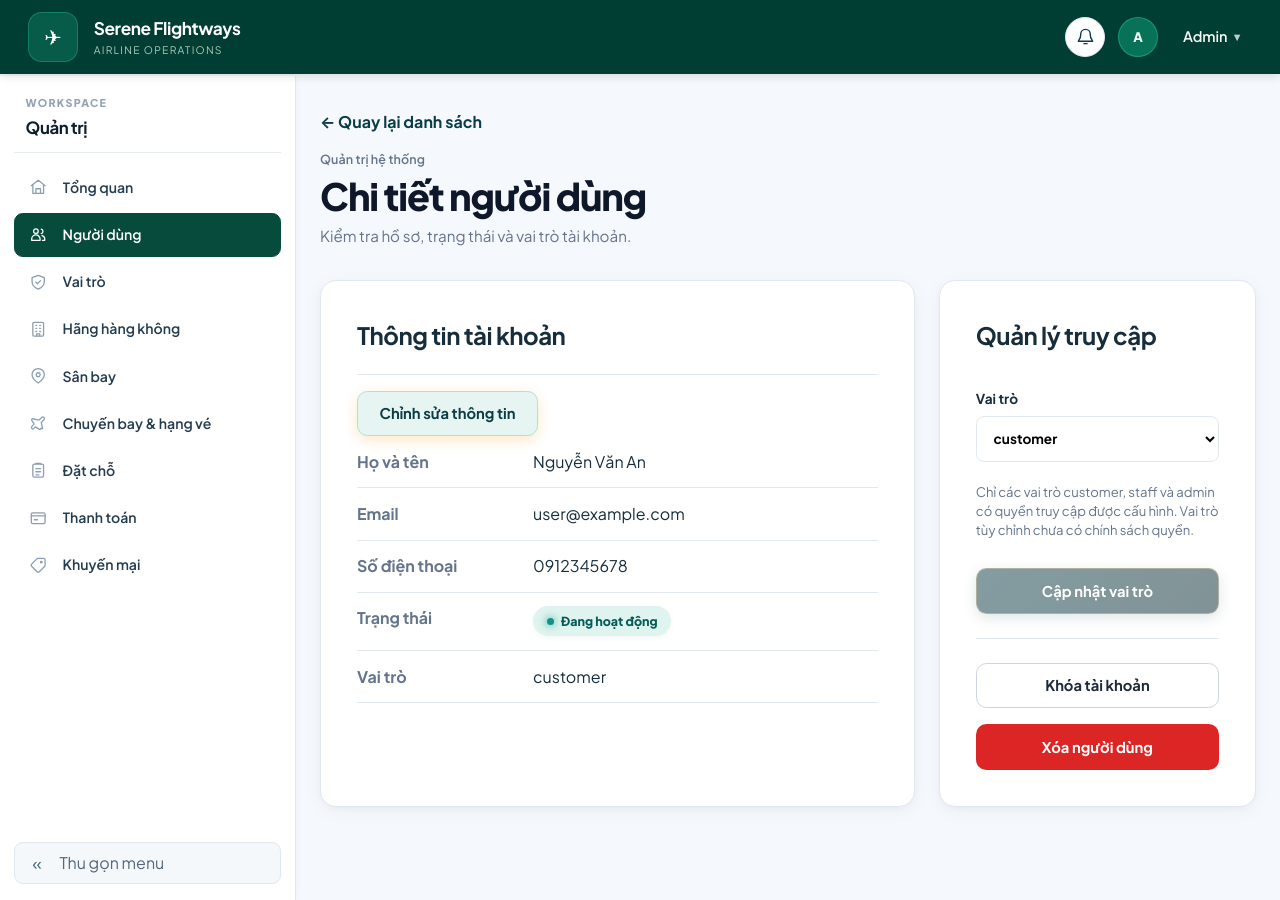
admin user detail › keeps old data after an API conflict and explains the error in Vietnamese
Expected: the text "user@example.com" is shown, [533,503,685,524]
Click the button "Khóa tài khoản" at (1097, 686), box [976,663,1219,708]
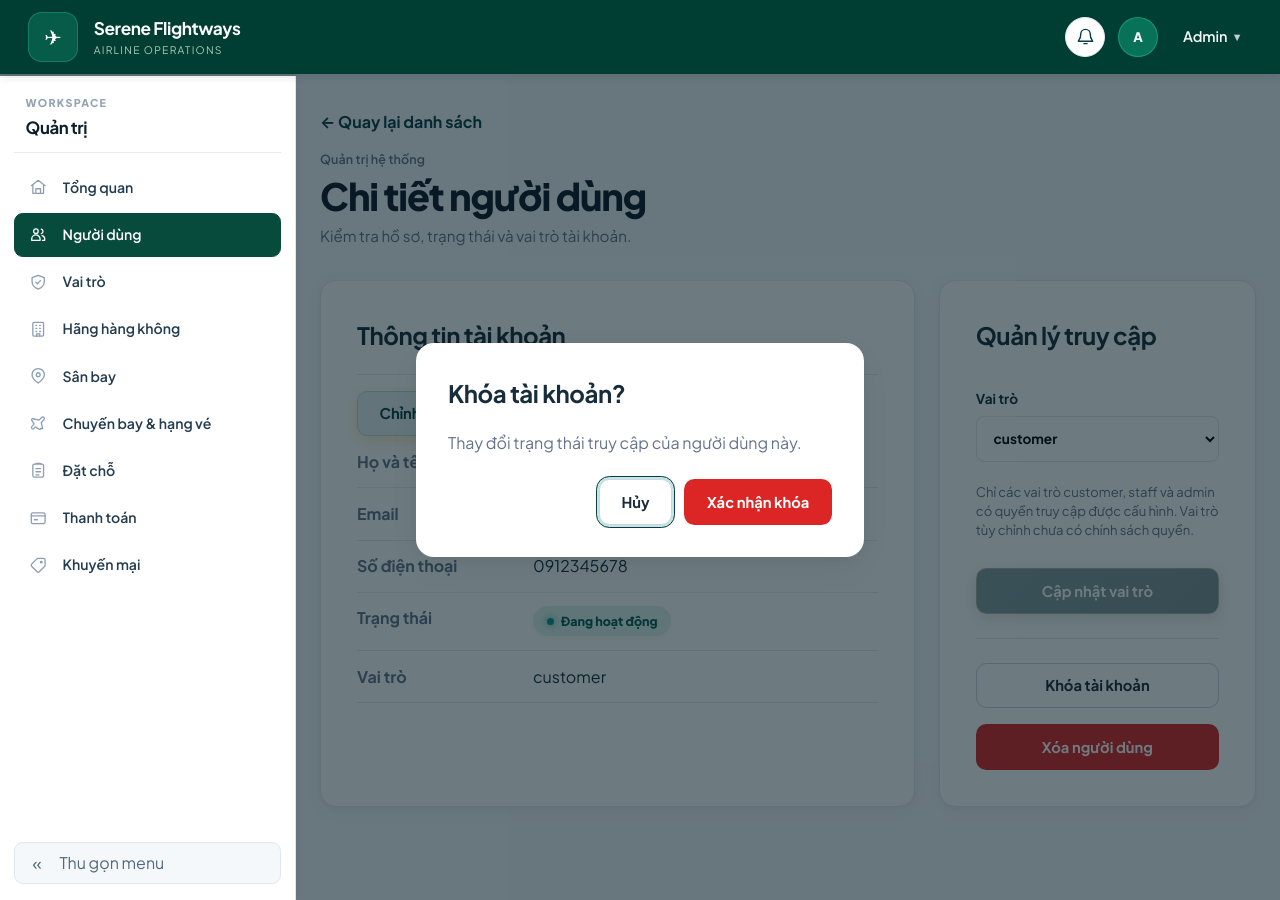
Click the button "Xác nhận khóa" at (758, 502), box [684,479,832,525]
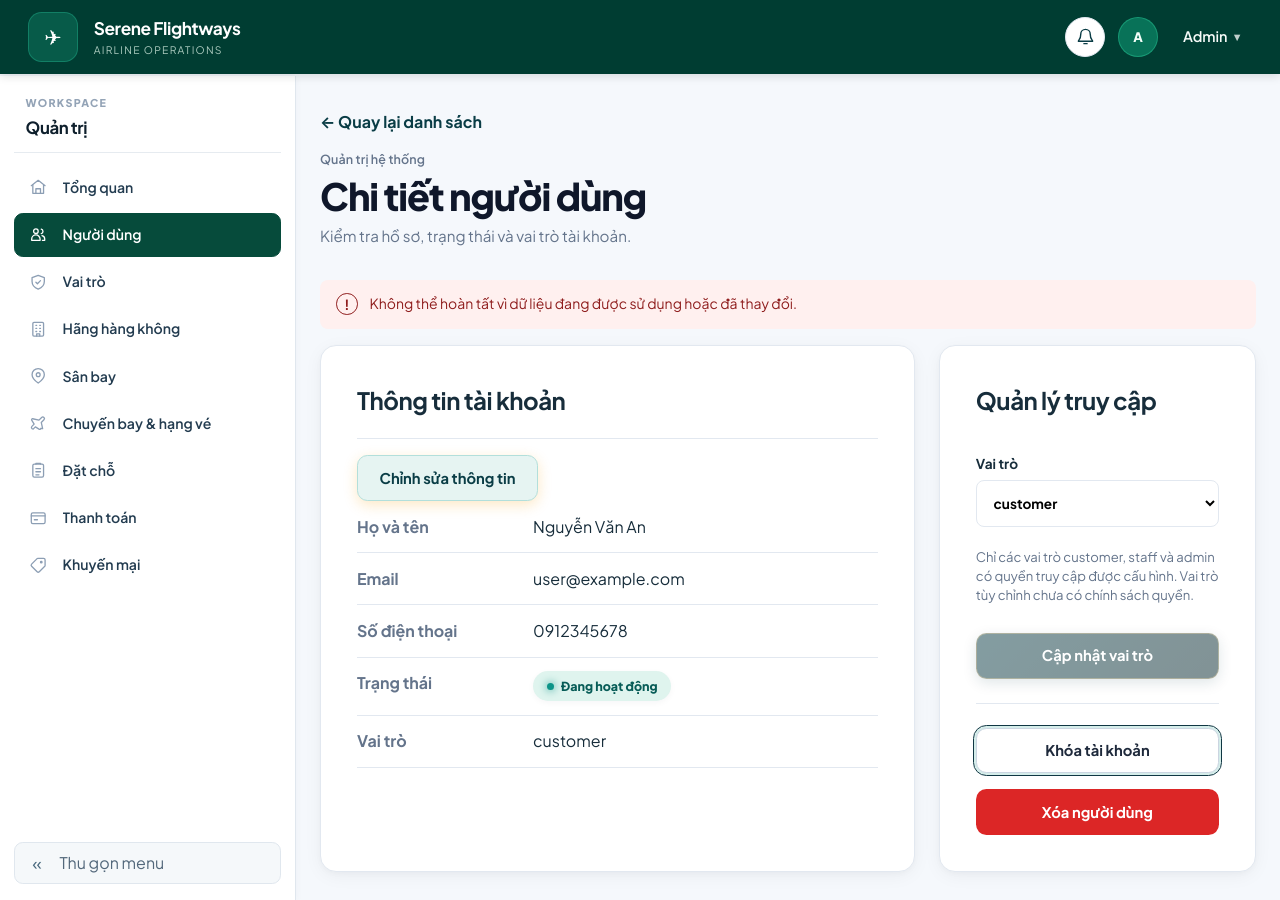
Expected: the text "Đang hoạt động" is shown, [533,671,671,701]
Expected: the text "Không thể hoàn tất vì dữ liệu đang được sử dụng hoặc đã thay đổi." is shown, [370,294,797,314]
